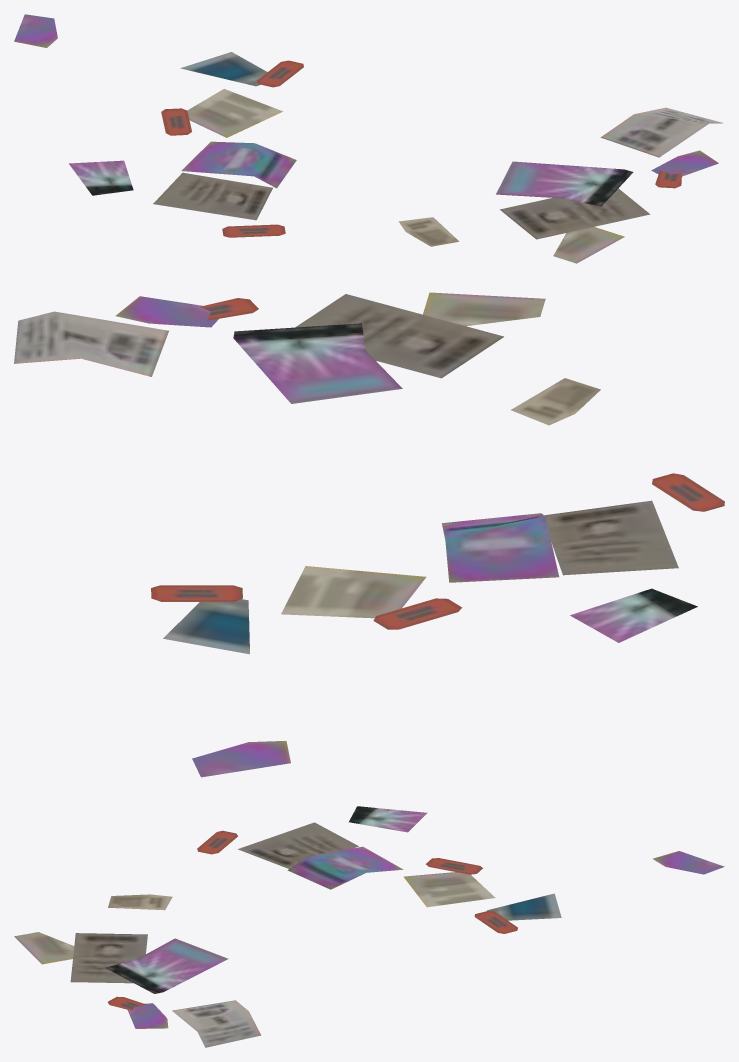
Rendered from SM_Prop_Papers_05.glb.
3 renders of one model, top to bottom at view 1: azimuth 30°, elevation 25°; view 2: azimuth 150°, elevation 25°; view 3: azimuth 270°, elevation 25°, orthographic. The views are drawn at different scales.
Parts seen in each view (by area): view 1: SM_Prop_Papers_05; view 2: SM_Prop_Papers_05; view 3: SM_Prop_Papers_05.
Boxes of the visible parts, bbox=[...] form: SM_Prop_Papers_05: bbox=[14, 14, 723, 263]; SM_Prop_Papers_05: bbox=[14, 292, 724, 777]; SM_Prop_Papers_05: bbox=[14, 806, 724, 1047].
Bounding box in the file's own units: 215 × 3.26 × 267.
Materials: 1 (1 with a texture image).
